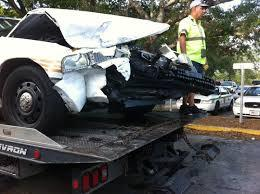Bonnet: (8, 9, 174, 50)
Bumper: (56, 51, 209, 107)
